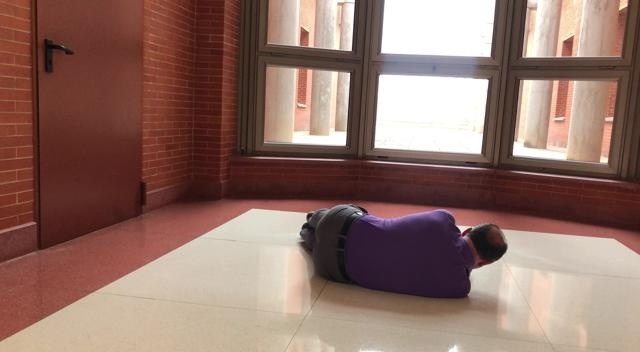fall: (292, 194, 519, 306)
